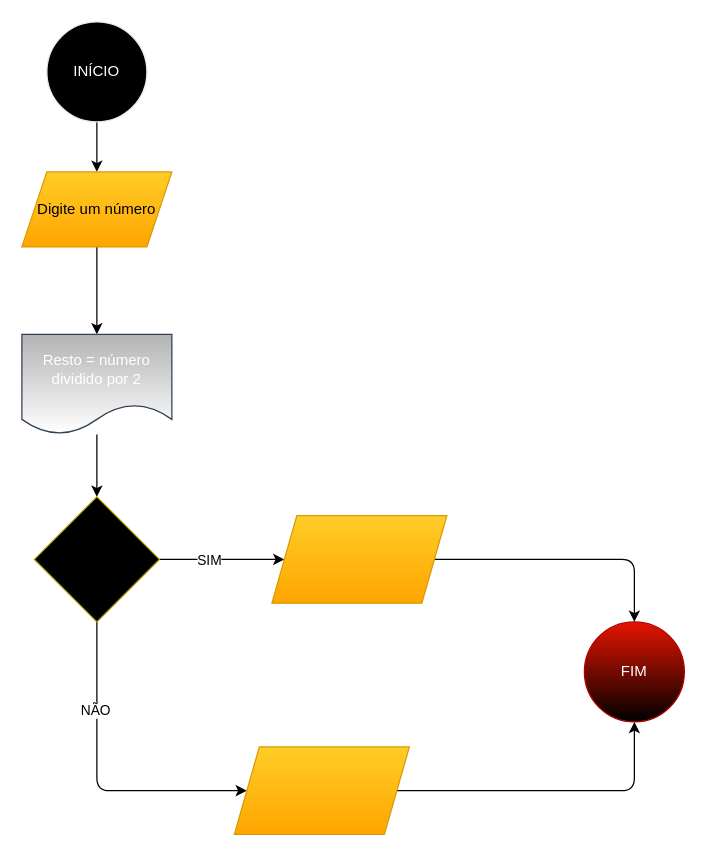
Some shapes in this 706 by 856 pixel diagram are drawn without their labels. The centre of each missing label's shape, as x and y in pixels:
"O número digitado é PAR." goes at (359,558).
"O número digitado é ÍMPAR." goes at (321,790).
